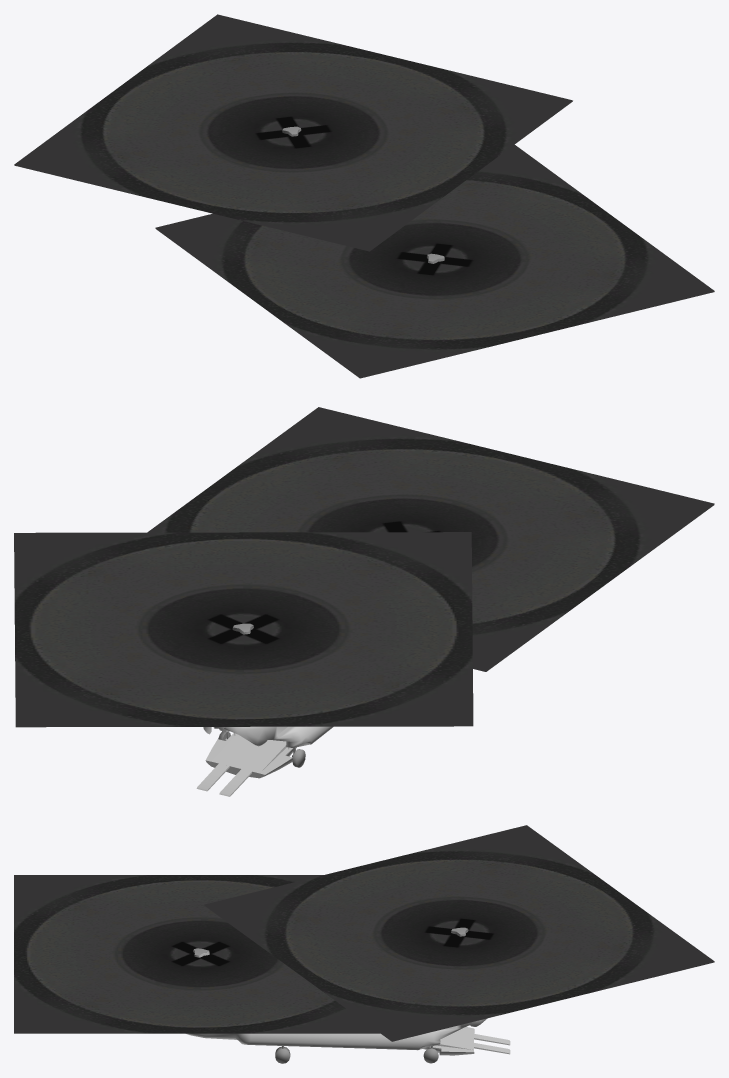
Rendered from BH_Vehicle_Boeing_CH-47_Chinoook.FBX.
3 views of the same model, one above another, from view 1: azimuth 30°, elevation 25°; view 2: azimuth 150°, elevation 25°; view 3: azimuth 270°, elevation 25° (orthographic). The views are drawn at different scales.
Parts seen in each view (by area): view 1: Wing2, Wing1; view 2: Wing2, Wing1, Door, Body, Thanhtruot; view 3: Wing2, Wing1, Body, Door, Thanhtruot, Rim_Weakpoint.
Part boxes in pixels (x1,y1,x2,y2): Wing2: (14,14,572,251); Wing1: (155,144,714,378); Wing2: (14,532,473,727); Wing1: (147,407,714,671); Door: (205,733,296,778); Body: (203,726,332,755); Thanhtruot: (196,763,251,796); Wing2: (204,825,714,1041); Wing1: (14,875,379,1033); Body: (186,952,487,1050); Door: (423,1026,474,1055); Thanhtruot: (474,1034,510,1054); Rim_Weakpoint: (275,1046,438,1063).
Bounding box in the file's own units: 39270 × 9978 × 53861.
